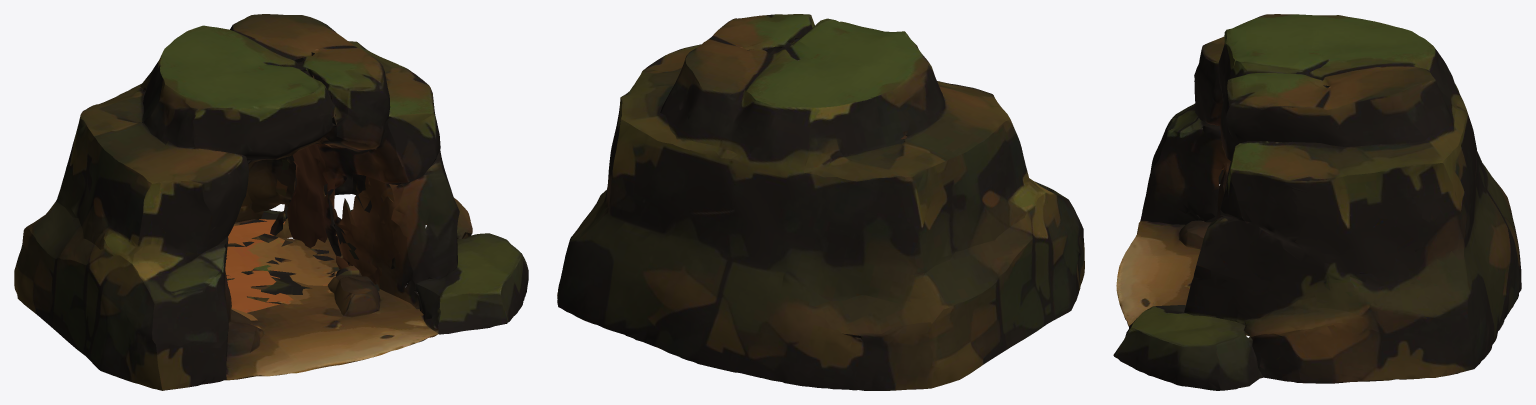
Rendered from lava_lizard_den.glb.
3 renders of one model, left to right at view 1: azimuth 30°, elevation 25°; view 2: azimuth 150°, elevation 25°; view 3: azimuth 270°, elevation 25°, orthographic. The views are drawn at different scales.
Parts seen in each view (by area): view 1: lava_lizard_den; view 2: lava_lizard_den; view 3: lava_lizard_den.
Part boxes in pixels (<box>): lava_lizard_den: <box>14,14,528,390</box>; lava_lizard_den: <box>557,14,1084,390</box>; lava_lizard_den: <box>1113,14,1521,390</box>.
Bounding box in the file's own units: 3 × 1.58 × 2.48.
Materials: 1 (1 with a texture image).
